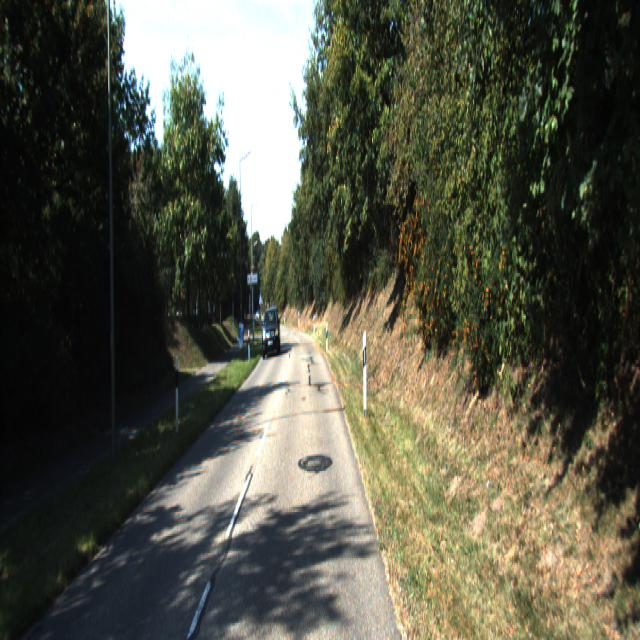Car: (261, 304, 281, 360)
